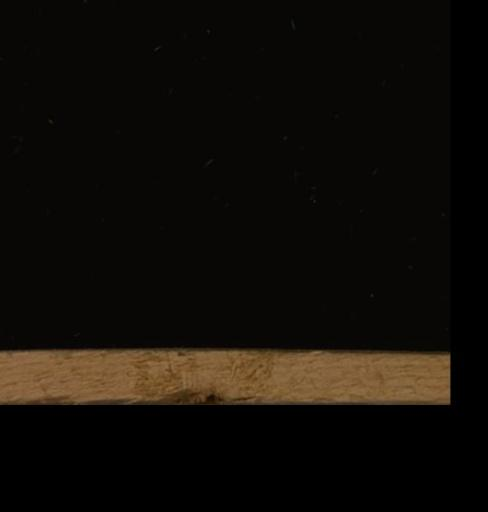wave: (82, 389, 265, 403)
